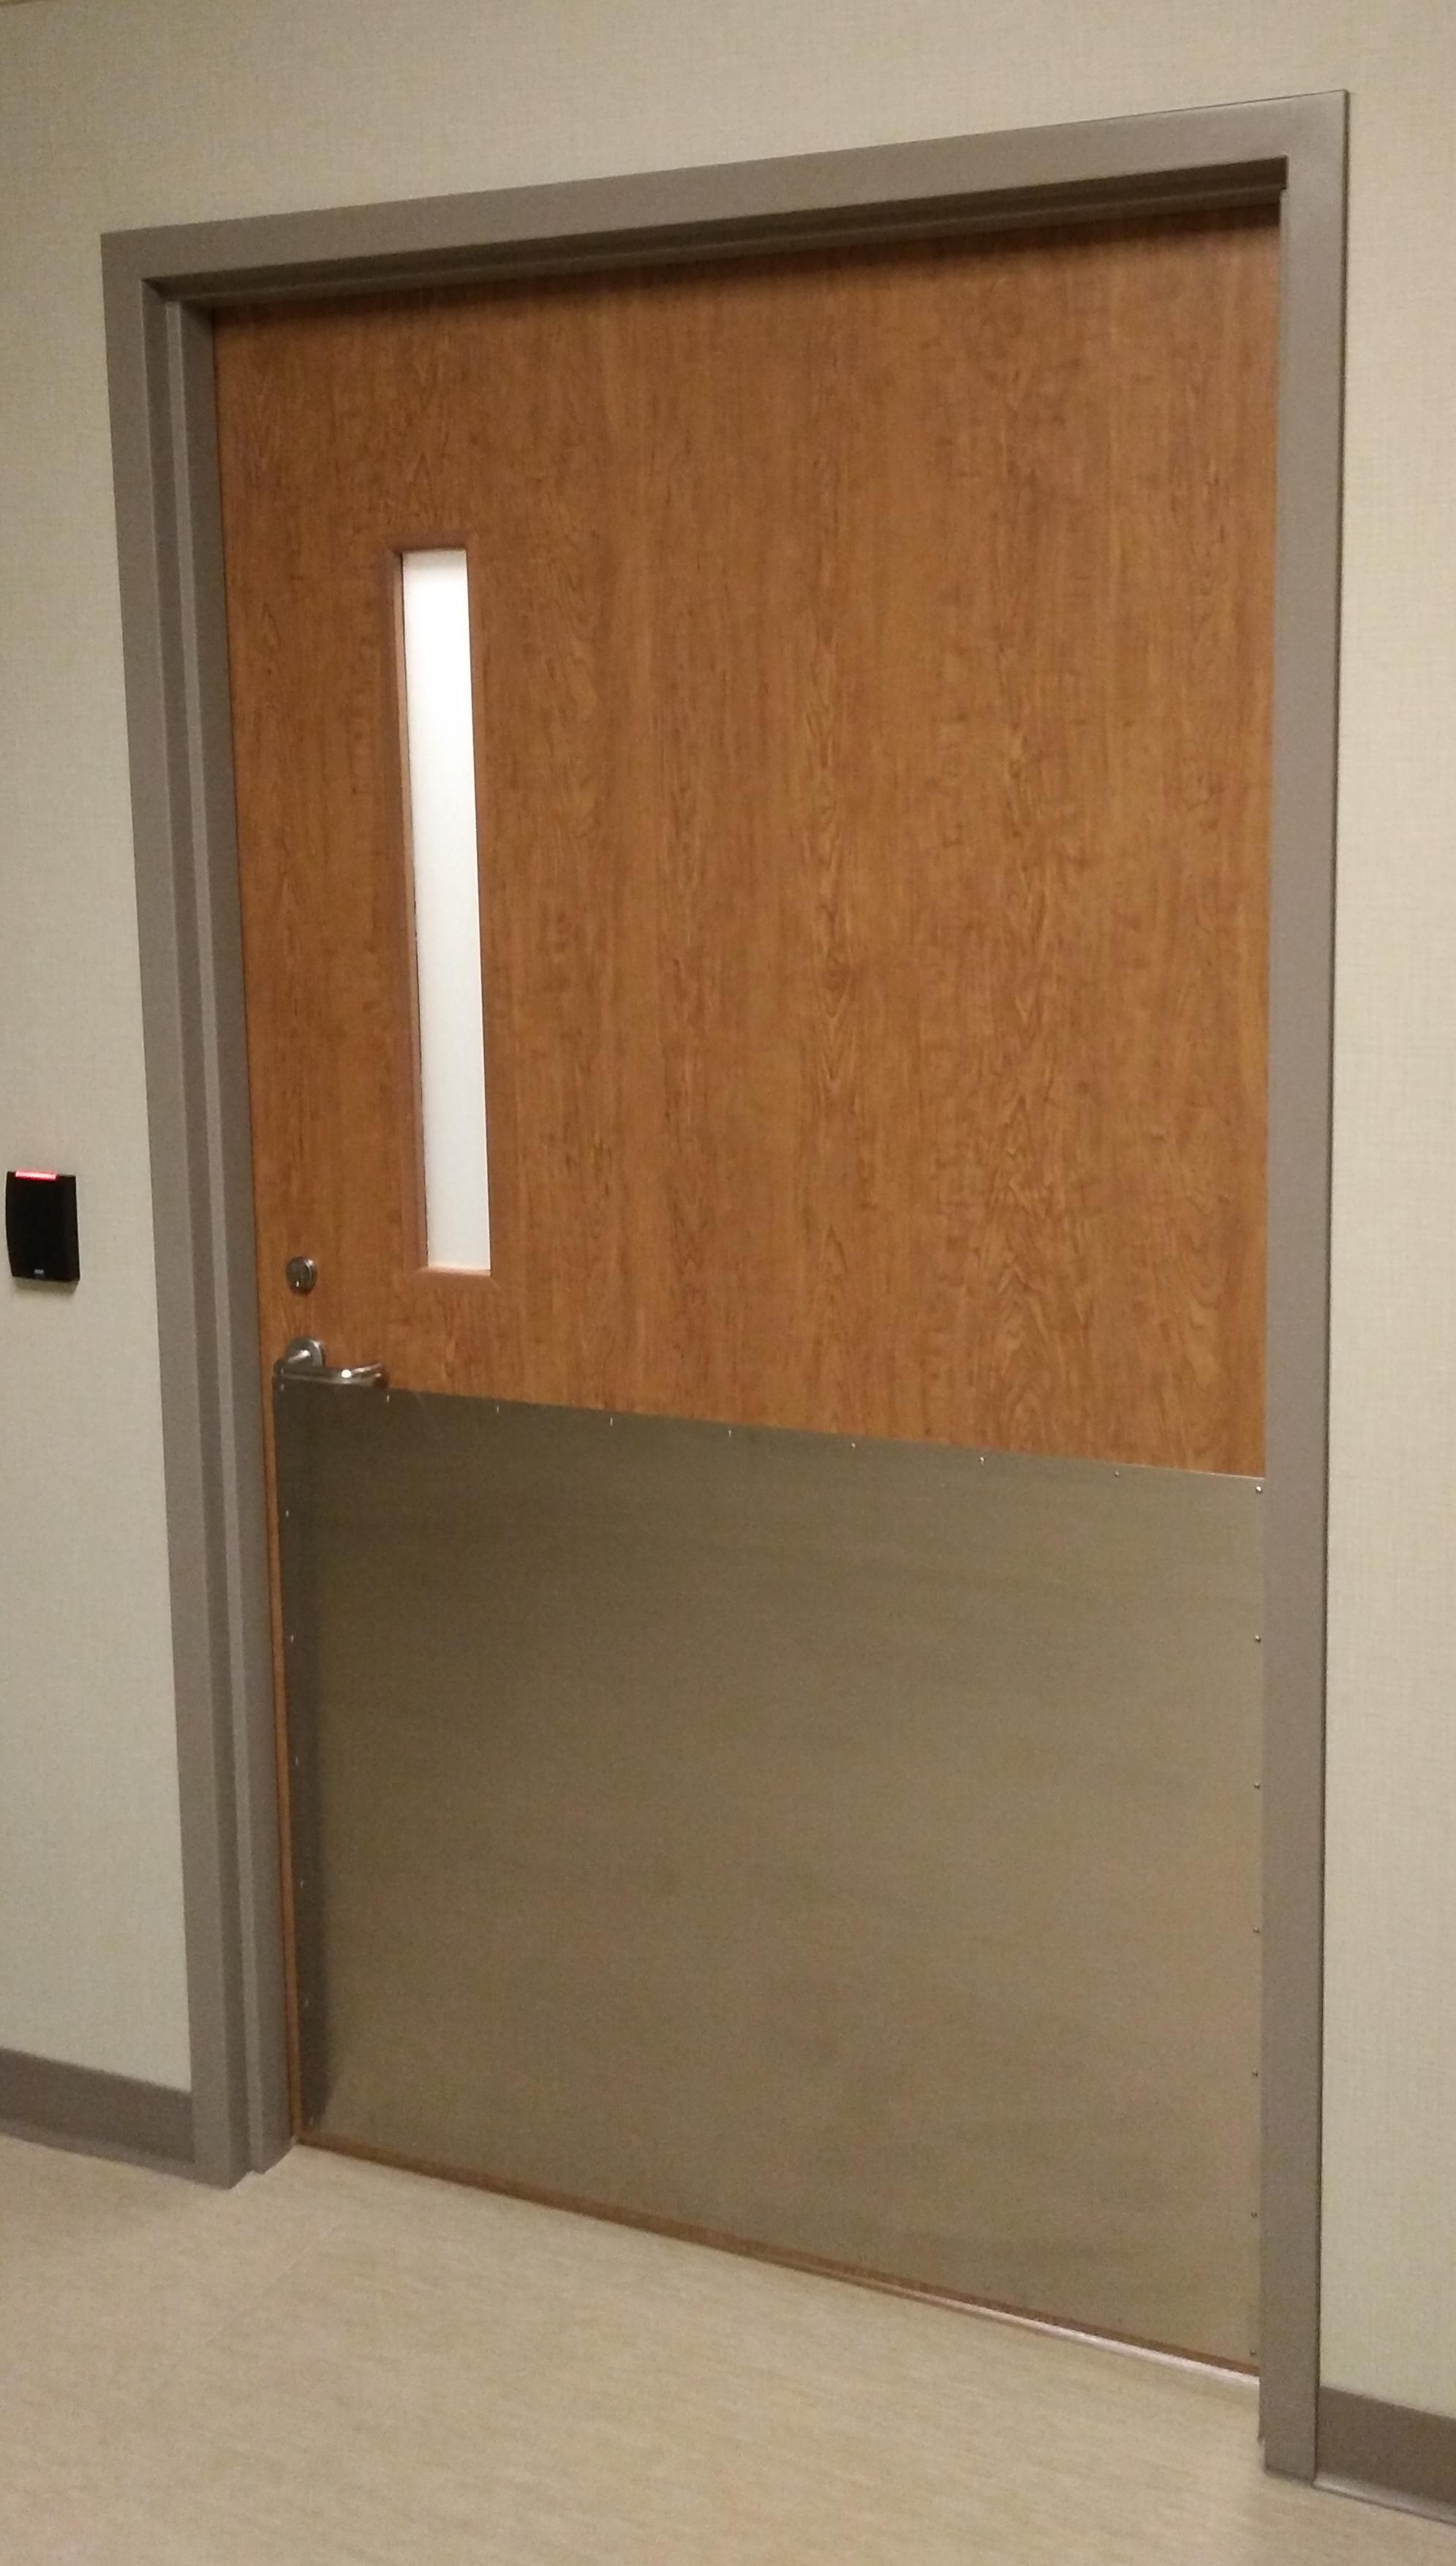door: (204, 153, 1319, 2372)
